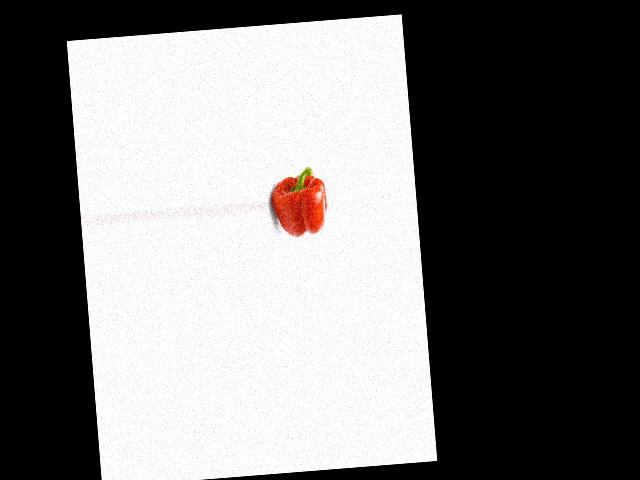bell_pepper: (270, 162, 329, 244)
